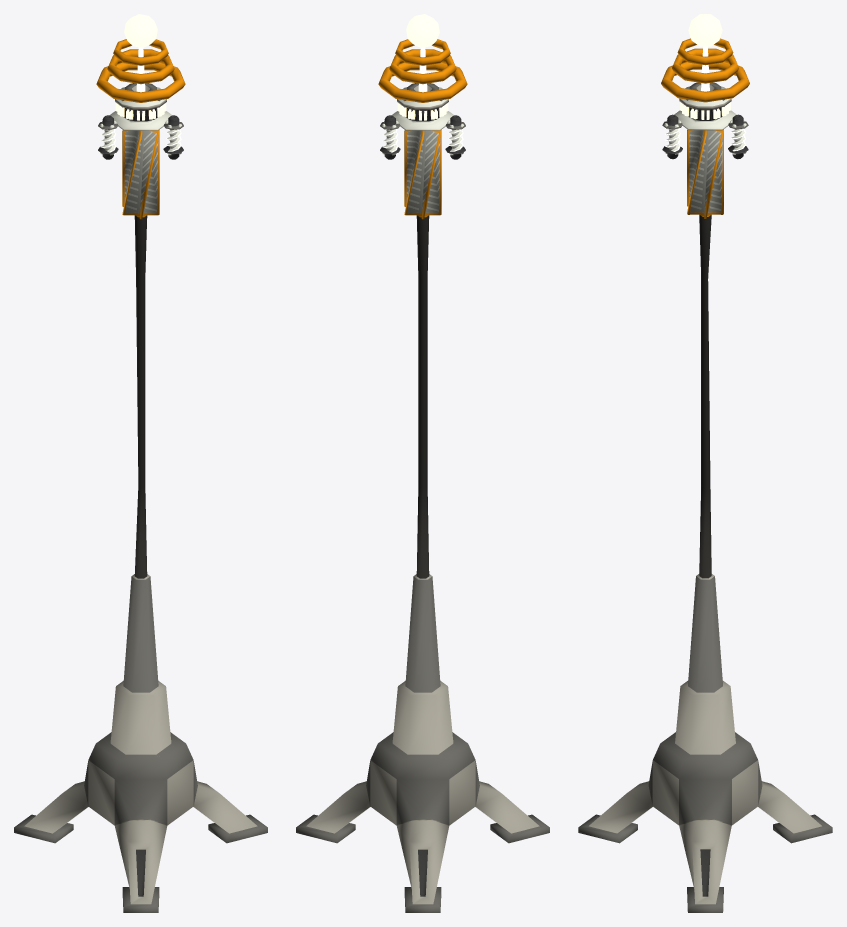
Rendered from electric-pole-1.glb.
3 renders of one model, left to right at view 1: azimuth 30°, elevation 25°; view 2: azimuth 150°, elevation 25°; view 3: azimuth 270°, elevation 25°, orthographic.
Visible parts, largest first — view 1: Cylinder.006; view 2: Cylinder.006; view 3: Cylinder.006.
Part boxes in pixels (<box>): Cylinder.006: <box>14,14,267,912</box>; Cylinder.006: <box>296,14,549,912</box>; Cylinder.006: <box>578,14,832,912</box>.
Bounding box in the file's own units: 8.15 × 34.36 × 9.41.
Materials: 1 (1 with a texture image).
